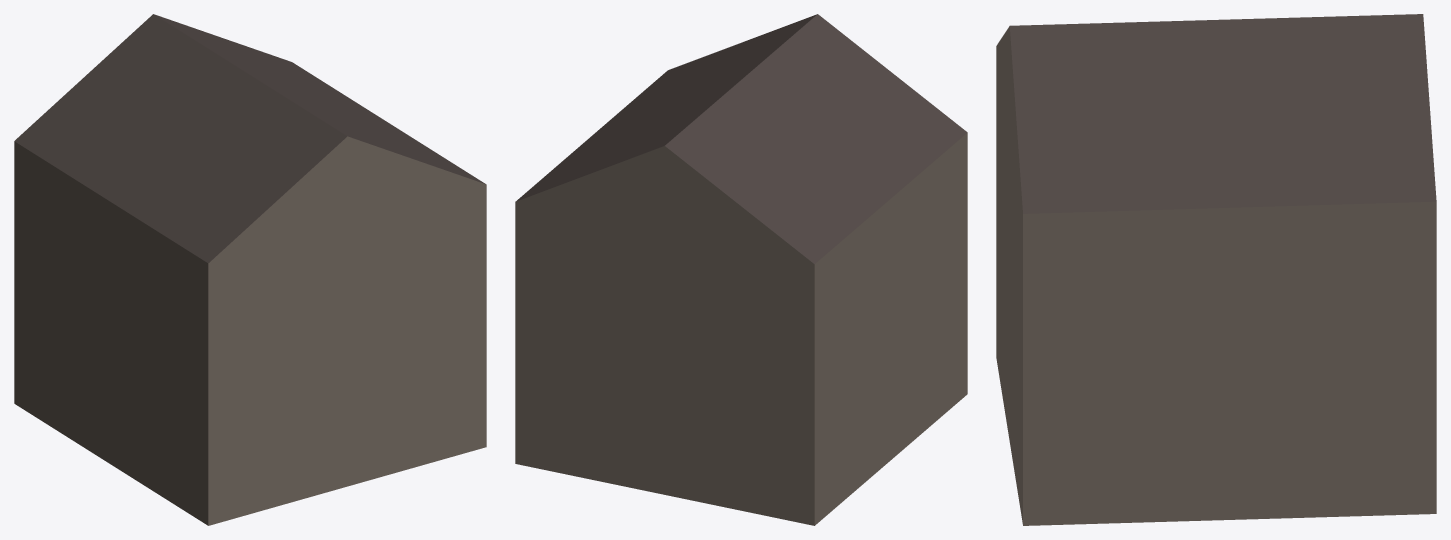
3 views of the same model, side by side, from view 1: azimuth 30°, elevation 25°; view 2: azimuth 150°, elevation 25°; view 3: azimuth 270°, elevation 25° (orthographic). The views are drawn at different scales.
Parts seen in each view (by area): view 1: HP-w1424106457; view 2: HP-w1424106457; view 3: HP-w1424106457.
Part boxes in pixels (left/top/right/bottom): HP-w1424106457: left=14, top=14, right=486, bottom=525; HP-w1424106457: left=515, top=14, right=967, bottom=525; HP-w1424106457: left=996, top=14, right=1436, bottom=525.
Bounding box in the file's own units: 7.41 × 8 × 7.67.
